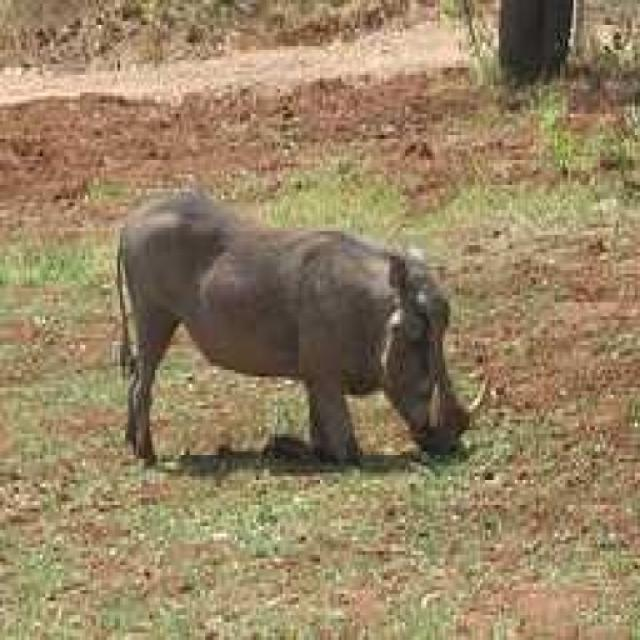pig: (87, 110, 514, 484)
